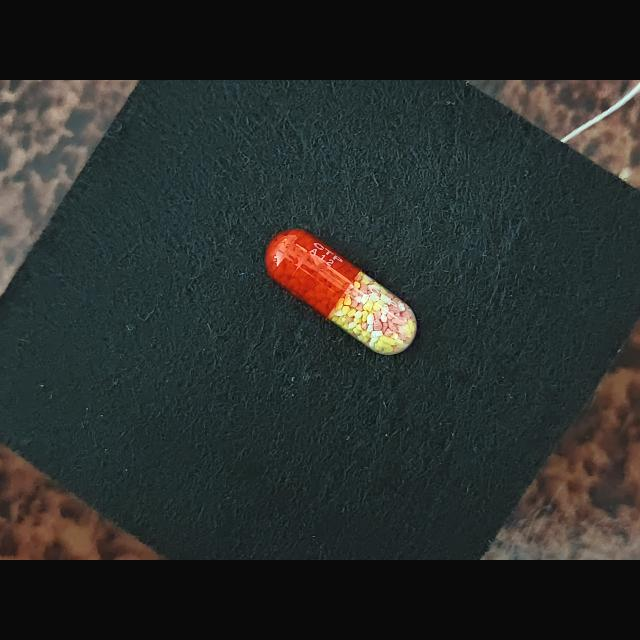Intact Capsule: (265, 229, 417, 355)
